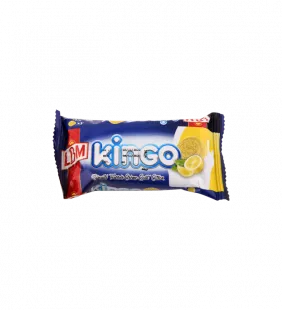LBM: (43, 99, 237, 212)
